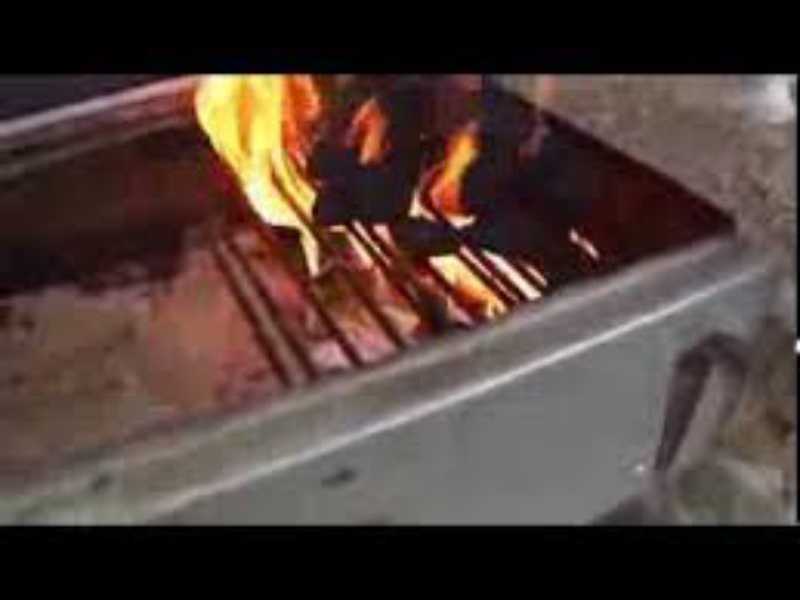fire: (184, 76, 331, 223), (410, 114, 479, 226), (429, 255, 534, 310), (350, 89, 395, 169)
